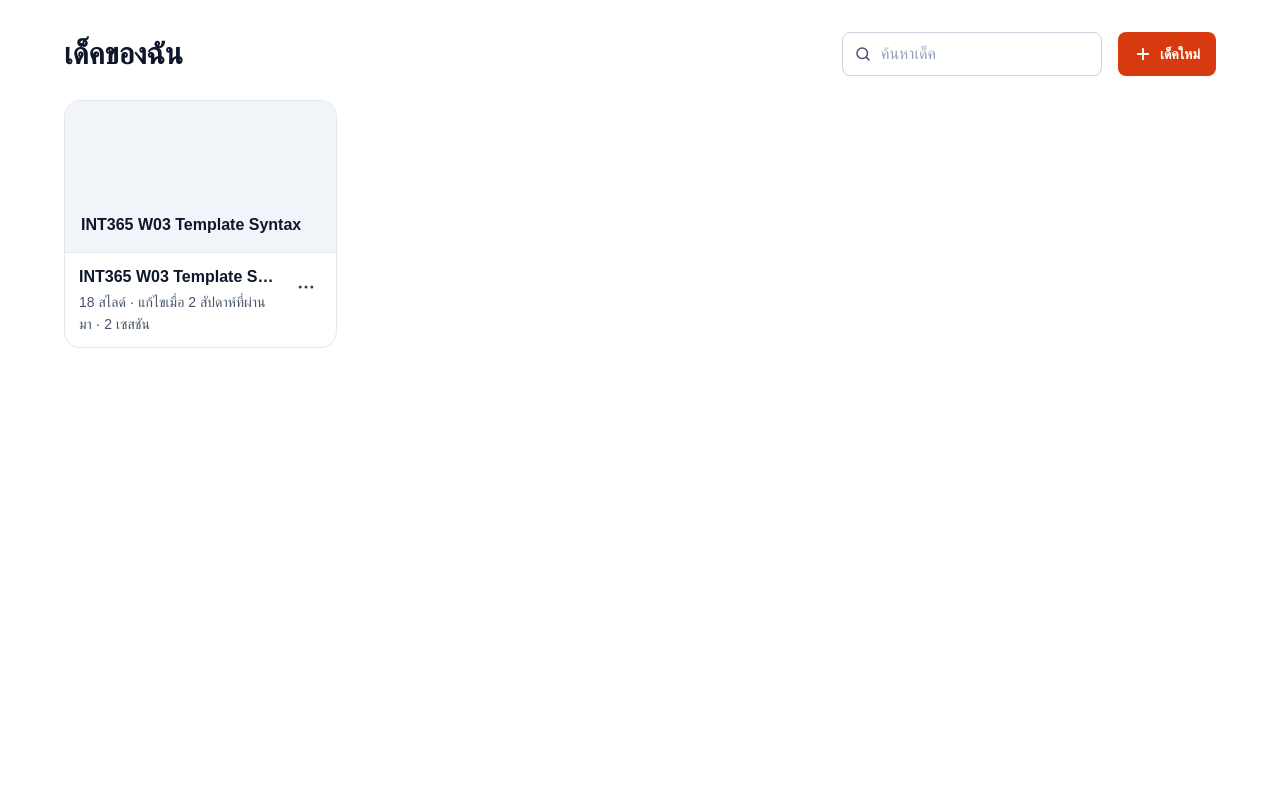
Scenario: DeckList › duplicates a deck with a translated copy title
What coordinates should you click on to do the following:
click the button named "ตัวเลือกของ INT365 W03 Template Syntax"
I would click on:
 (306, 287)
Its box is [284,265,328,309].
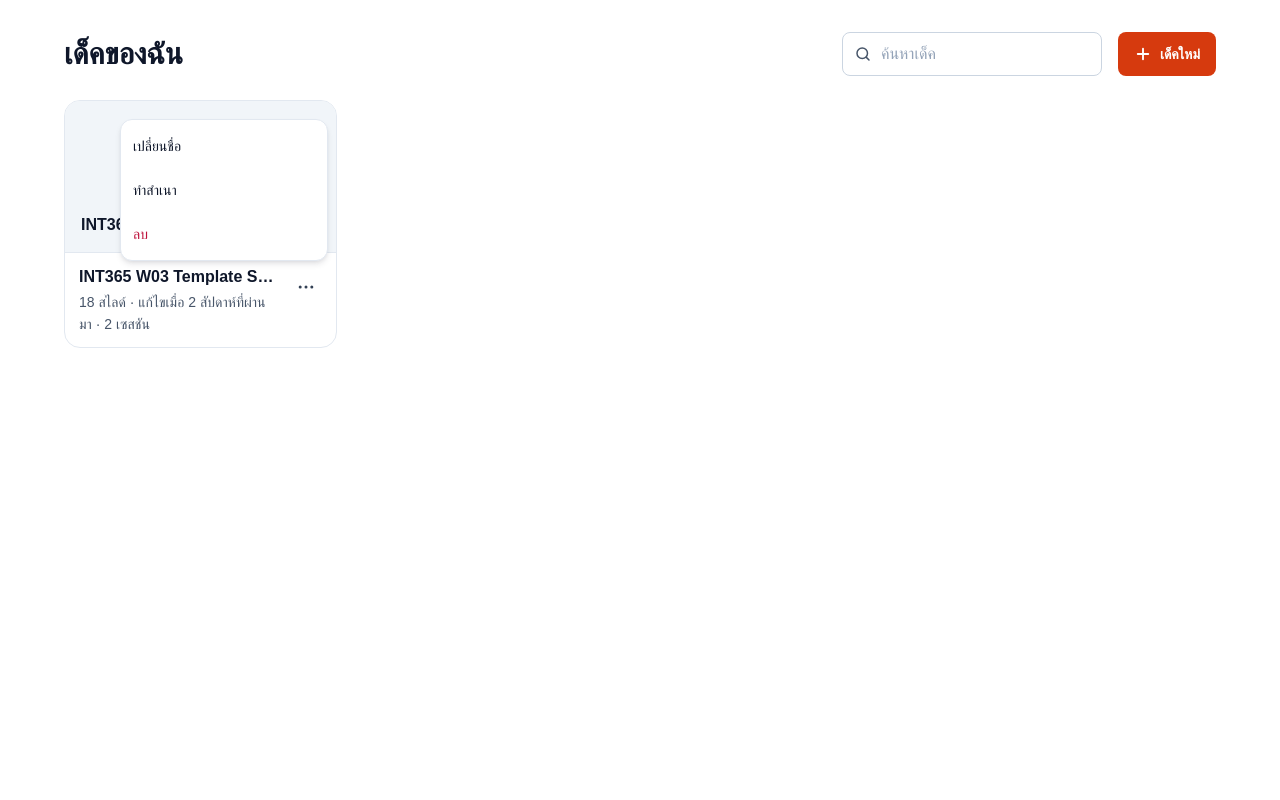
What coordinates should you click on to do the following:
click the button "ทำสำเนา"
I would click on:
 (224, 190)
Its box is [121,168,327,212].
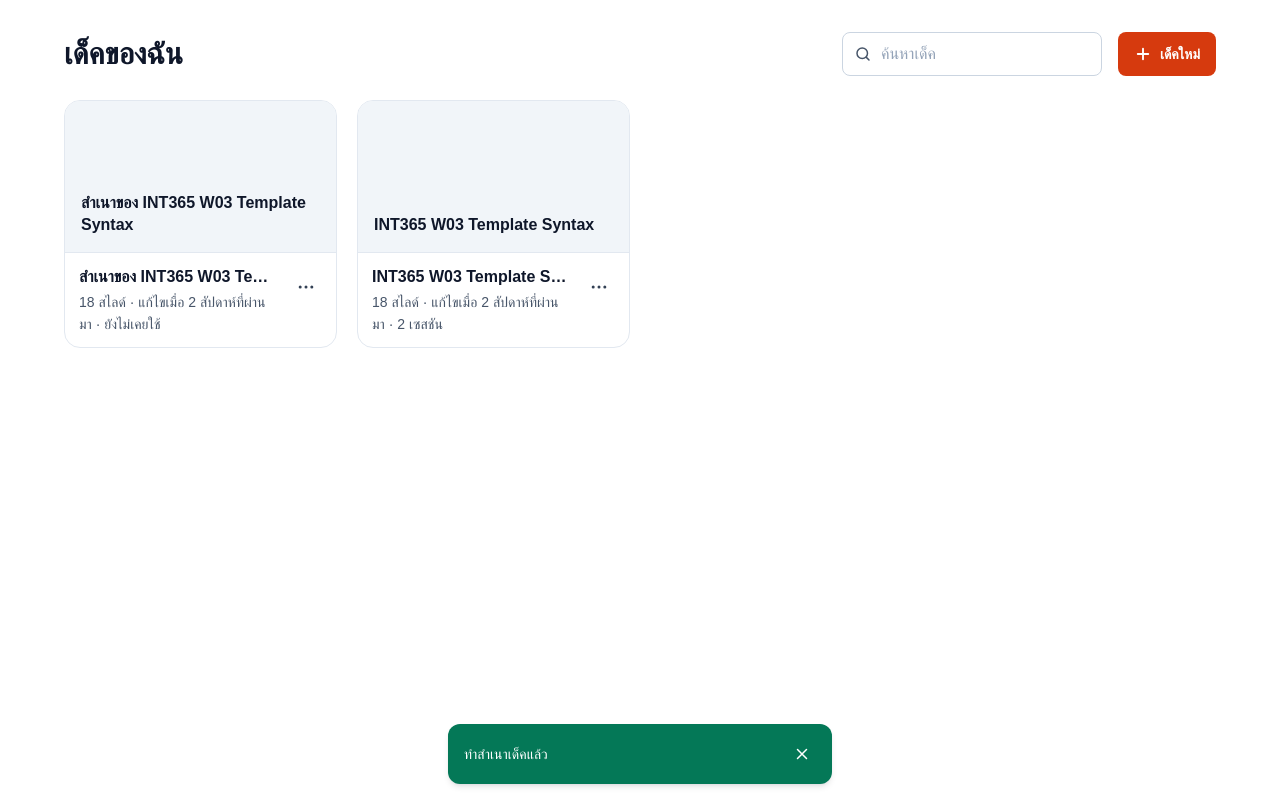
Expected: the link "INT365 W03 Template Syntax" is shown, [372,265,569,289]
Result: the link "สำเนาของ INT365 W03 Template Syntax" is shown at [79,265,276,289]
